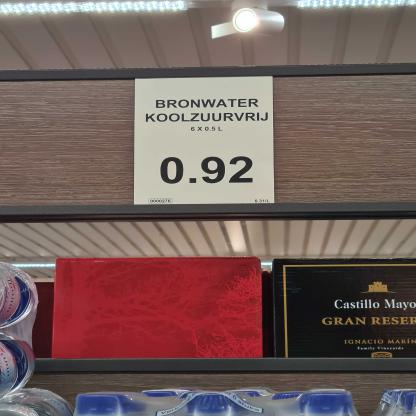prtg: (134, 77, 275, 205)
